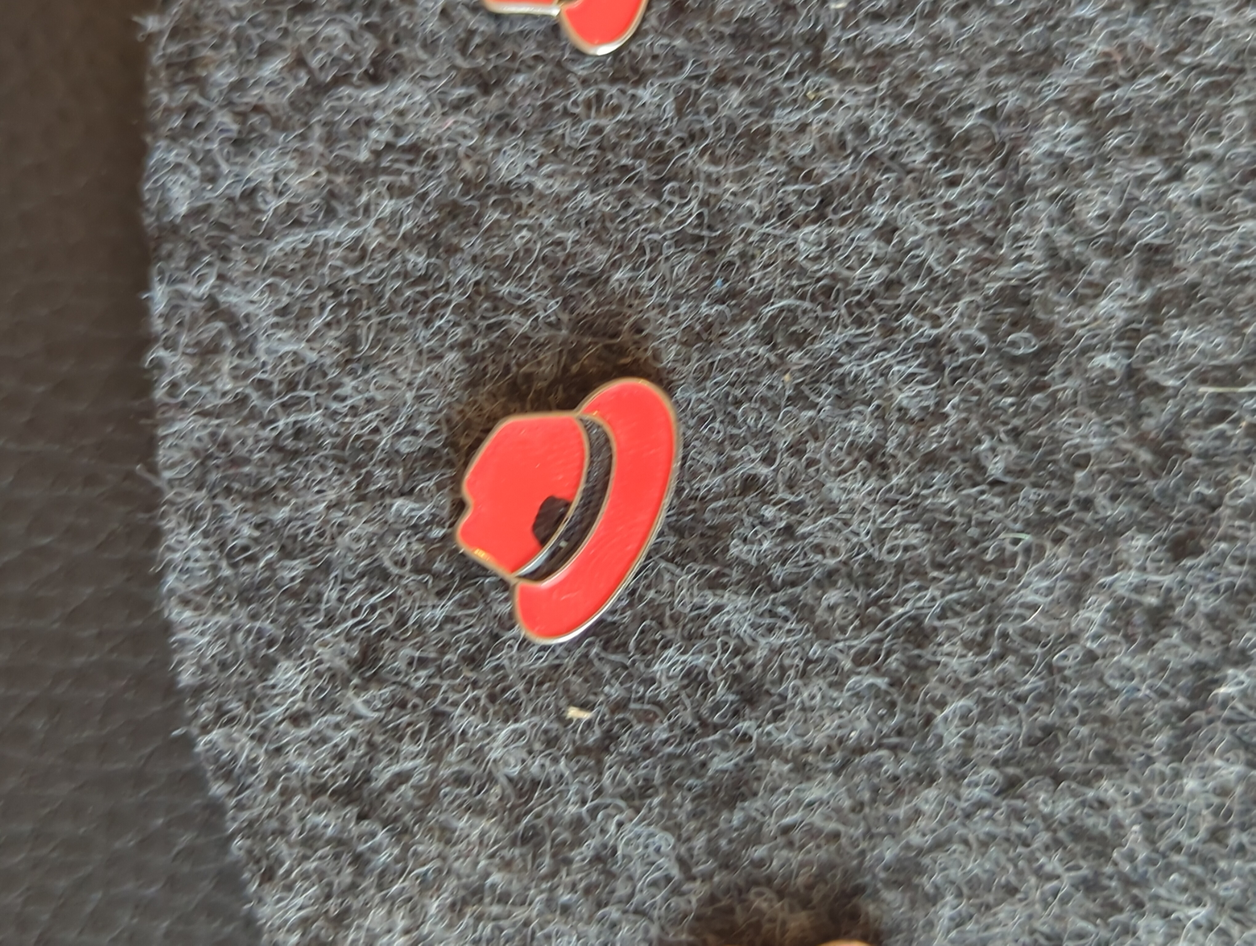Red-Hat: (417, 326, 751, 715)
Scratch: (504, 454, 597, 555)
